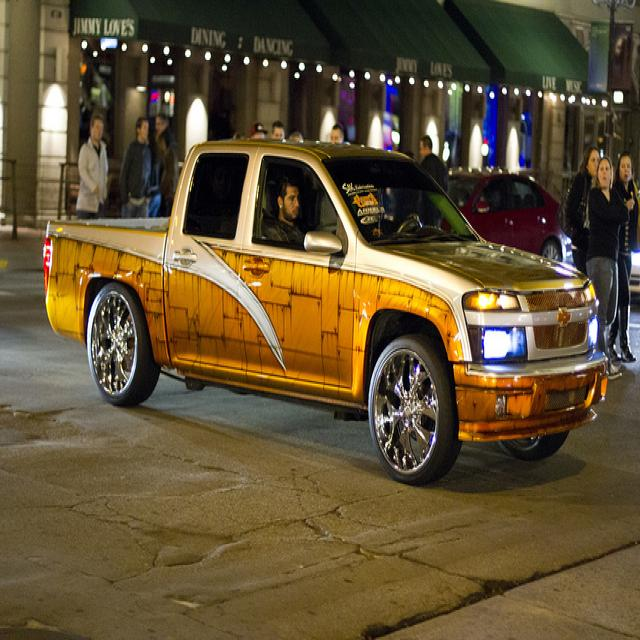Vehicle: (44, 136, 607, 483), (453, 172, 572, 266), (630, 249, 640, 294)
